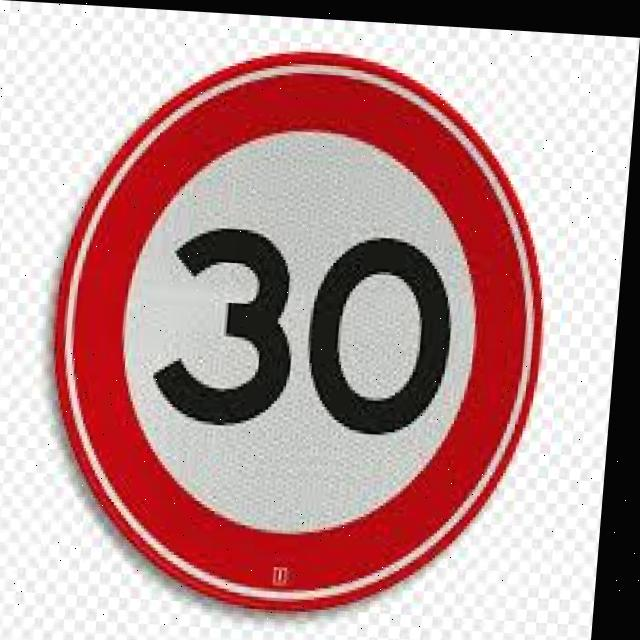Speed limit 30: (37, 32, 570, 622)
